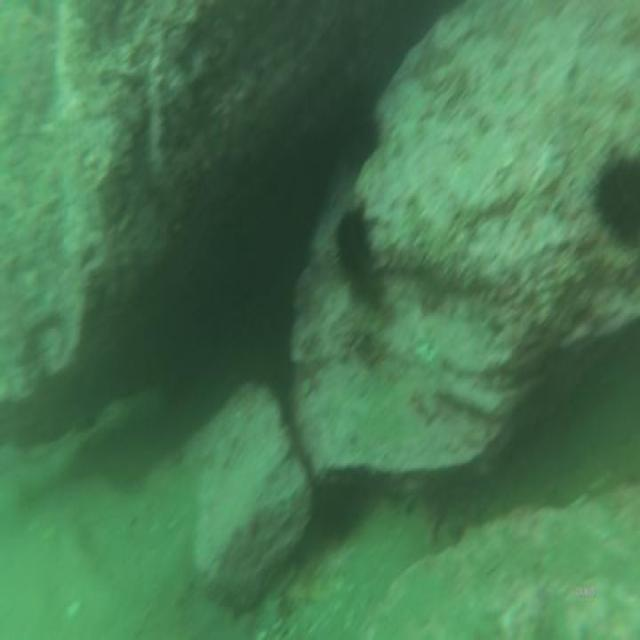echinus: (587, 144, 640, 256), (334, 201, 374, 289)
